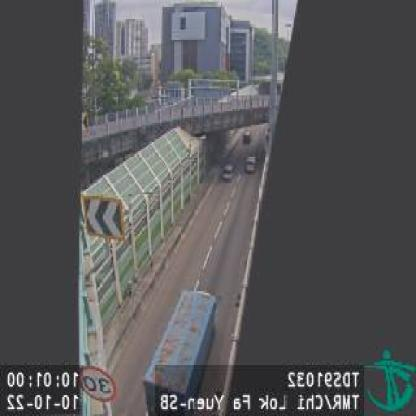Car: (245, 154, 257, 174), (222, 161, 235, 179)
Truck: (144, 290, 217, 412)
